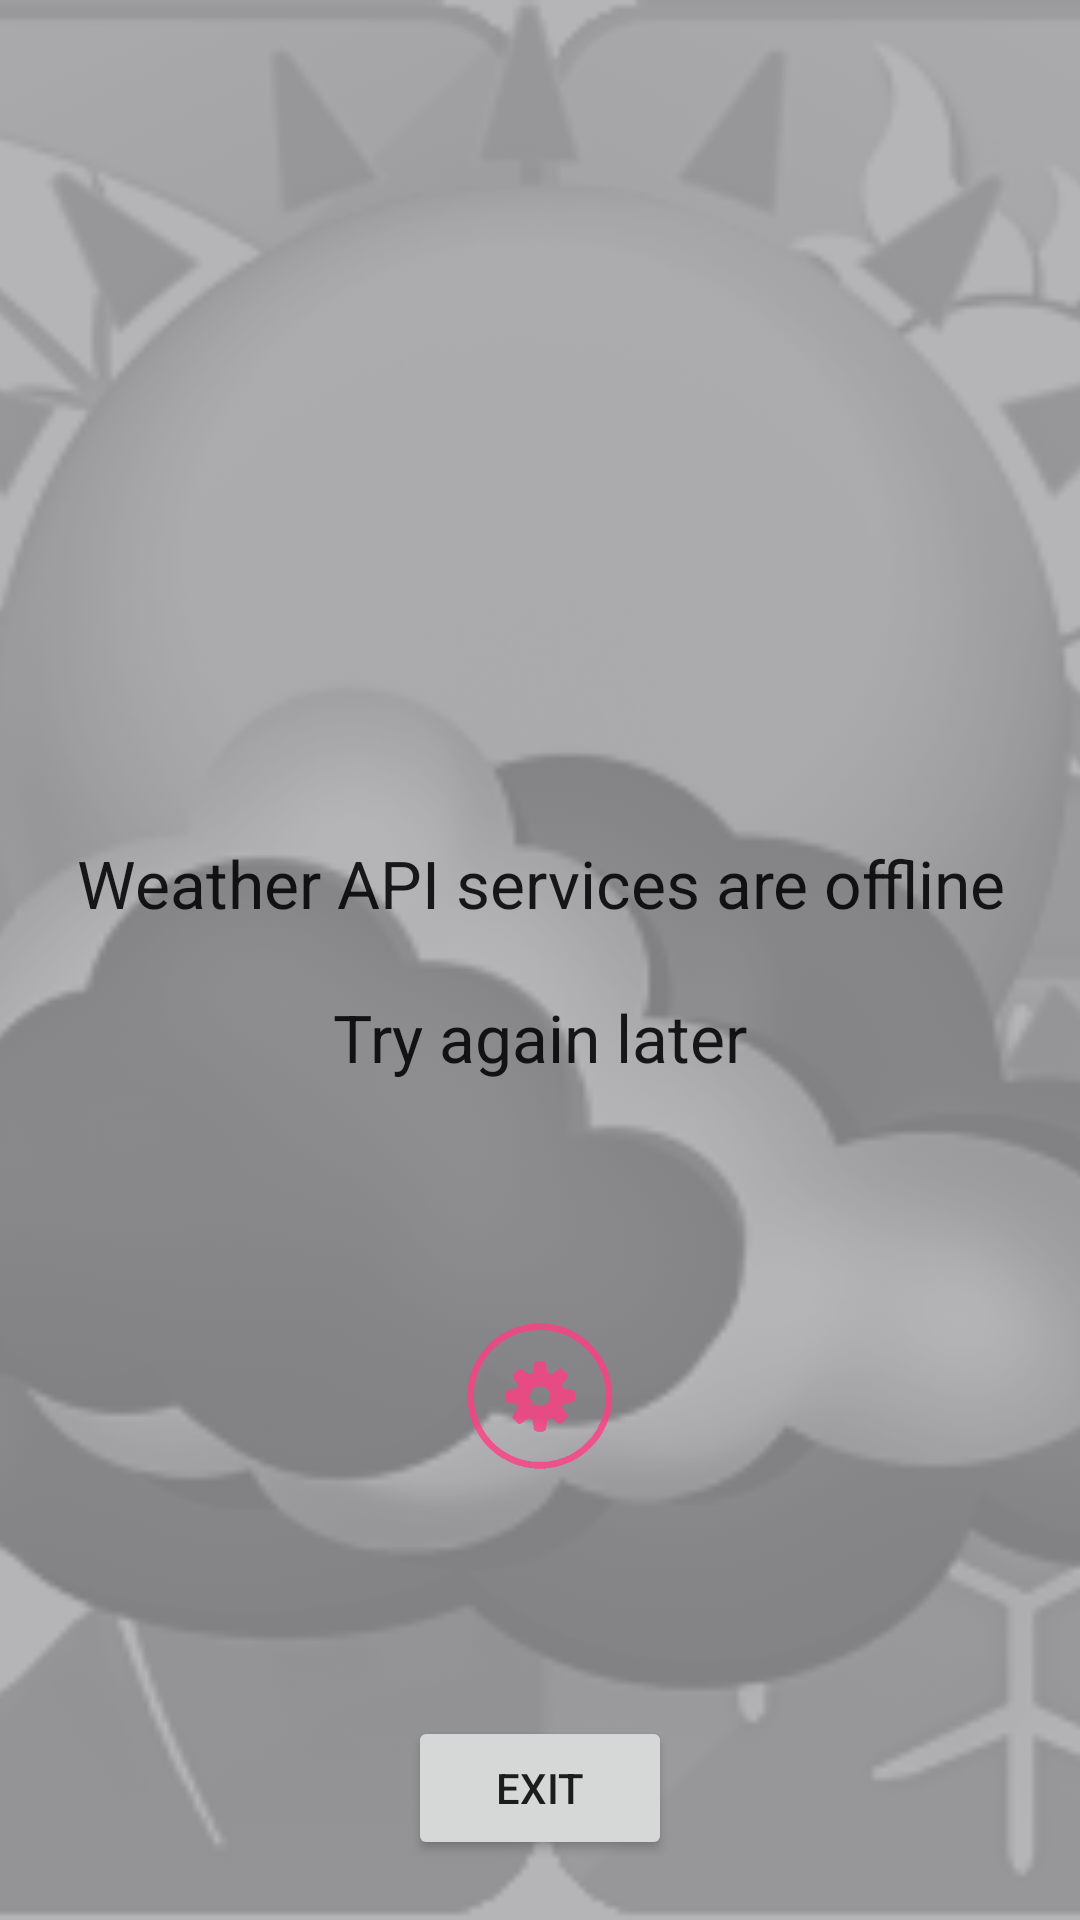

Named icons in this screenshot (1080w x 1920h) and their centers, [x,y]:
preferences: [540,1397]
